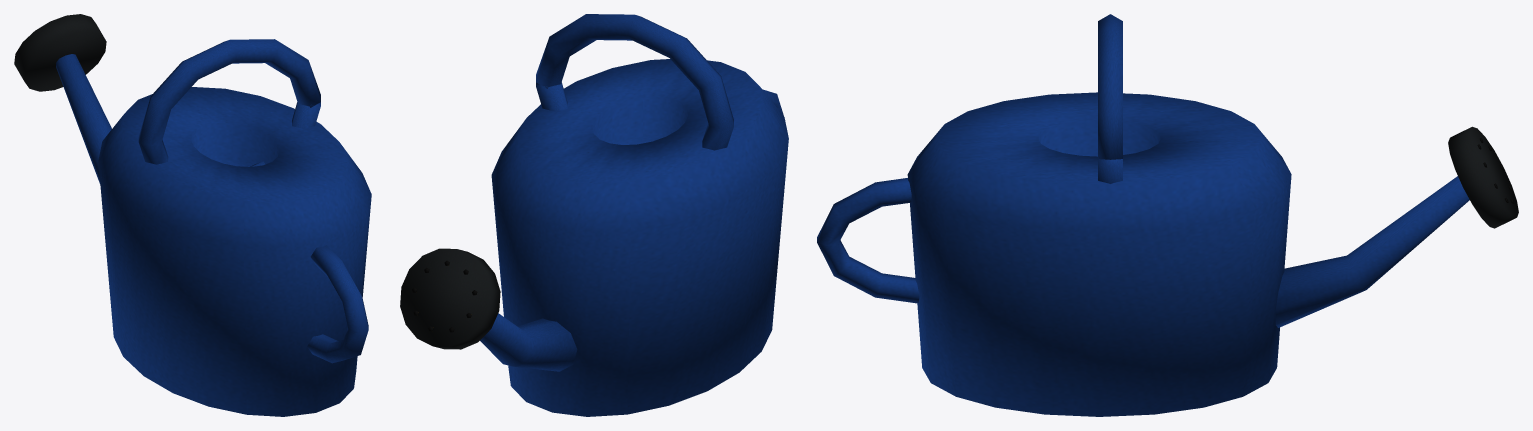
File: WateringCan.gltf
3 views of the same model, side by side, from view 1: azimuth 30°, elevation 25°; view 2: azimuth 150°, elevation 25°; view 3: azimuth 270°, elevation 25° (orthographic). The views are drawn at different scales.
Parts seen in each view (by area): view 1: WateringCan__Body; view 2: WateringCan__Body; view 3: WateringCan__Body.
Boxes of the visible parts, x1=… form: WateringCan__Body: x1=14, y1=14, x2=371, y2=416; WateringCan__Body: x1=400, y1=14, x2=788, y2=416; WateringCan__Body: x1=817, y1=14, x2=1518, y2=416.
Bounding box in the file's own units: 0.2072 × 0.2912 × 0.5427.
Materials: 1 (1 with a texture image).
